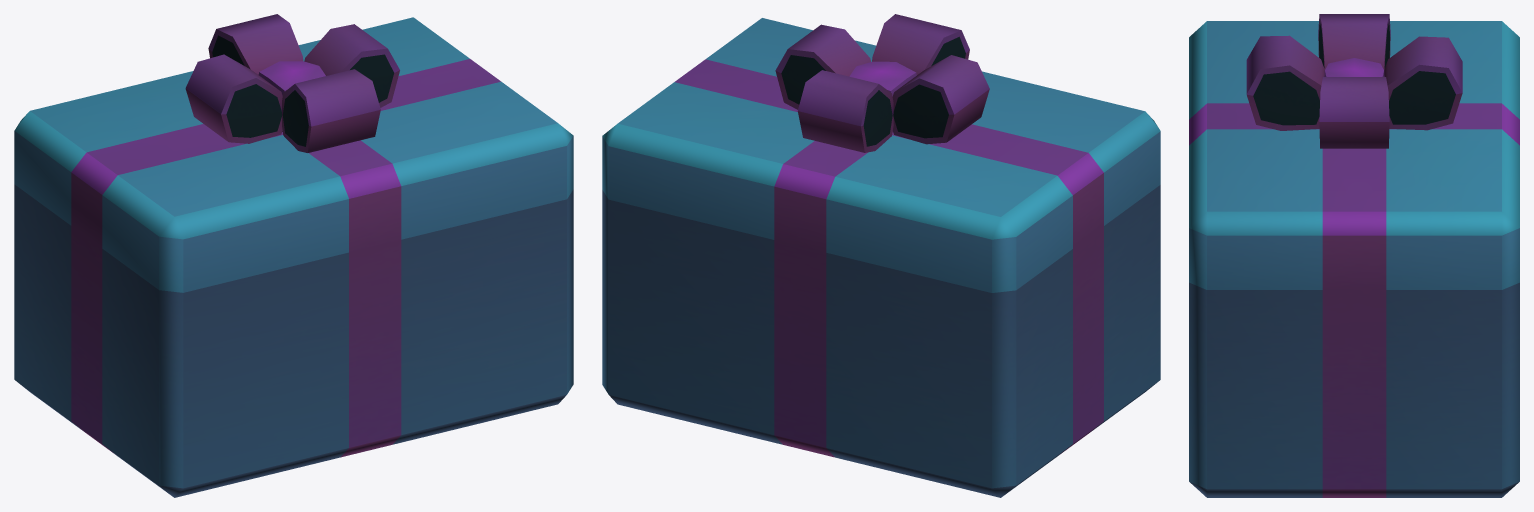
Rendered from presi_square_1_blue.fbx.
3 renders of one model, left to right at view 1: azimuth 30°, elevation 25°; view 2: azimuth 150°, elevation 25°; view 3: azimuth 270°, elevation 25°, orthographic.
Parts seen in each view (by area): view 1: presi_square_1_blue; view 2: presi_square_1_blue; view 3: presi_square_1_blue.
Boxes of the visible parts, x1,y1,x2,y2 form: presi_square_1_blue: [14, 14, 573, 497]; presi_square_1_blue: [602, 14, 1160, 497]; presi_square_1_blue: [1189, 14, 1519, 497].
Bounding box in the file's own units: 156 × 124 × 106.
1 material, 1 textured.
